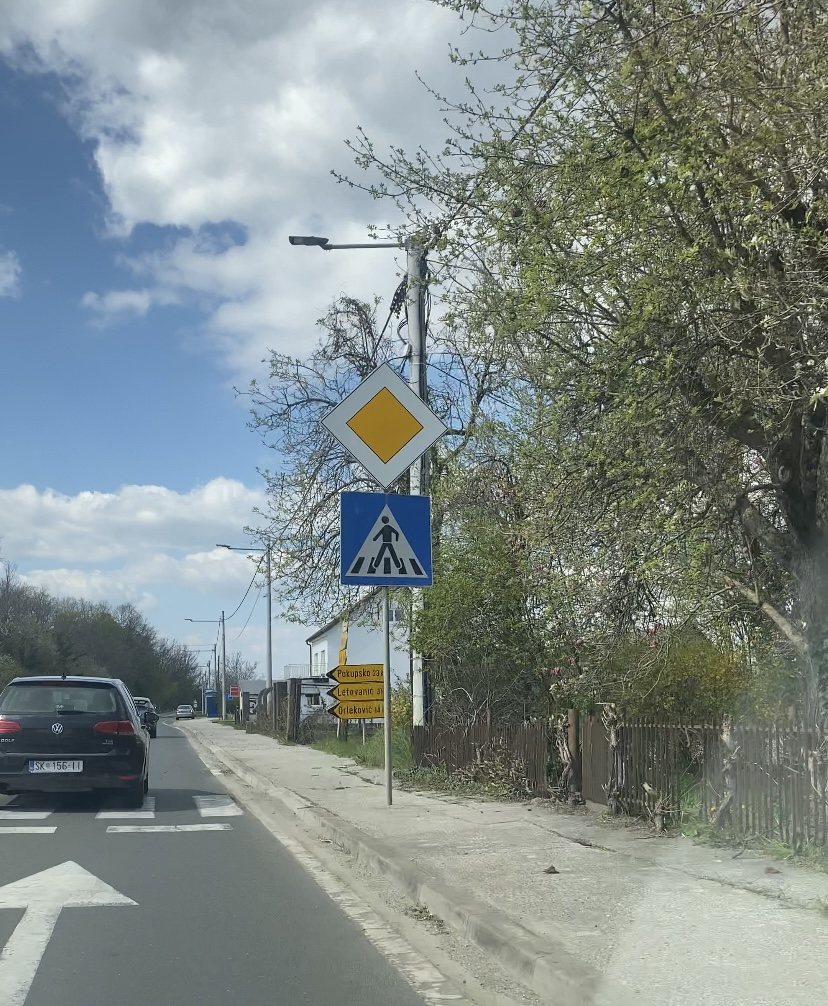Cesta s prednošću prolaska: (319, 361, 450, 490)
Pješački prijelaz: (340, 492, 433, 587)
